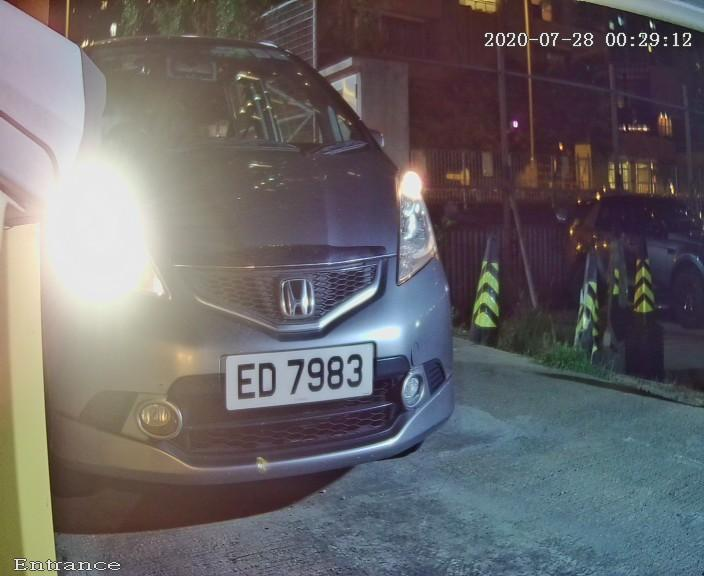privatecar: (4, 1, 481, 543)
